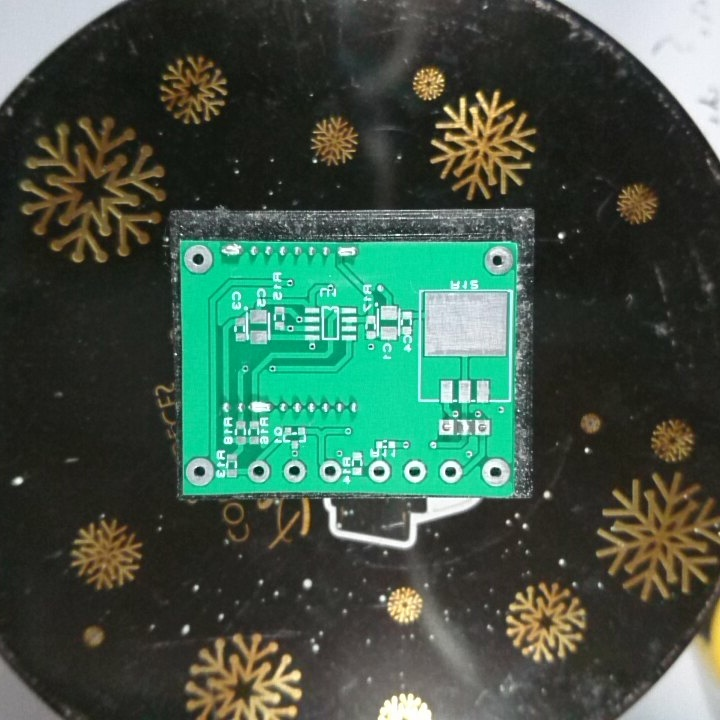F: (481, 245, 514, 278), (183, 242, 215, 276), (184, 455, 216, 488), (479, 454, 507, 489), (281, 457, 310, 486), (366, 457, 393, 484), (401, 458, 427, 486), (437, 457, 462, 486), (246, 459, 271, 484), (317, 458, 341, 484), (472, 416, 493, 439), (436, 415, 456, 439)
P: (245, 395, 275, 418), (333, 242, 362, 262), (218, 243, 244, 260)
